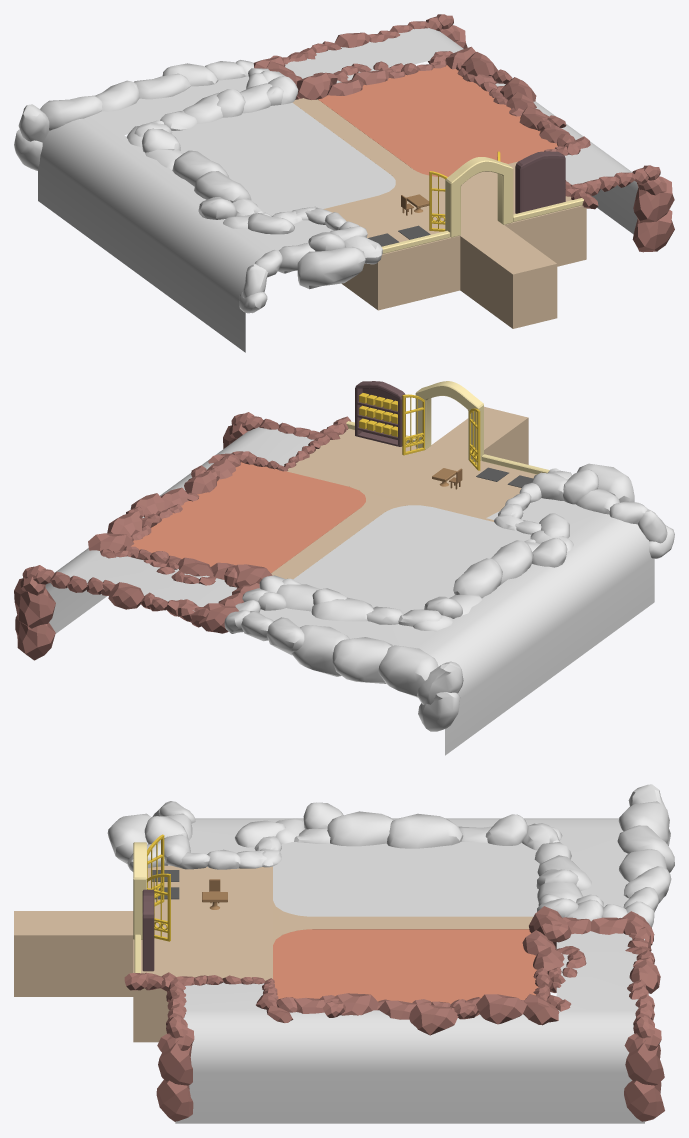
File: Afterworld New Map.fbx
3 renders of one model, top to bottom at view 1: azimuth 30°, elevation 25°; view 2: azimuth 150°, elevation 25°; view 3: azimuth 270°, elevation 25°, orthographic. The views are drawn at different scales.
Visible parts, largest first — view 1: Heaven_water, Neutral_ground, Clouds, Heaven_ground, Hell_ground, Rocks, Hell_Lava, Shelves, Gate, Neutral_Walls, Gate_door; view 2: Heaven_water, Clouds, Rocks, Neutral_ground, Hell_ground, Heaven_ground, Hell_Lava, Gate, Shelves, Gate_door.001, Gate_door, Neutral_Walls; view 3: Hell_Lava, Neutral_ground, Clouds, Rocks, Heaven_ground, Hell_ground, Heaven_water, Gate, Shelves, Gate_door.001, Gate_door.
Part boxes in pixels (box(x1,y1,x2,y2)): Heaven_water: box(38, 76, 333, 352); Neutral_ground: box(292, 98, 586, 328); Clouds: box(14, 60, 382, 313); Heaven_ground: box(172, 102, 395, 215); Hell_ground: box(318, 65, 557, 176); Rocks: box(253, 14, 674, 252); Hell_Lava: box(285, 28, 657, 251); Shelves: box(515, 151, 565, 213); Gate: box(445, 157, 513, 237); Neutral_Walls: box(382, 198, 583, 253); Gate_door: box(429, 171, 447, 231); Heaven_water: box(259, 498, 654, 755); Clouds: box(224, 463, 674, 731); Rocks: box(14, 412, 350, 660); Neutral_ground: box(271, 406, 536, 578); Hell_ground: box(131, 462, 365, 573); Heaven_ground: box(293, 505, 531, 613); Hell_Lava: box(45, 427, 313, 633); Gate: box(415, 381, 483, 462); Shelves: box(355, 381, 405, 446); Gate_door.001: box(402, 394, 425, 455); Gate_door: box(469, 408, 480, 470); Neutral_Walls: box(346, 421, 549, 474); Hell_Lava: box(175, 931, 644, 1123); Neutral_ground: box(14, 865, 533, 1042); Clouds: box(107, 784, 674, 927); Rocks: box(124, 906, 664, 1121); Heaven_ground: box(273, 842, 539, 916); Hell_ground: box(273, 929, 538, 1003); Heaven_water: box(189, 818, 628, 907); Gate: box(133, 842, 146, 939); Shelves: box(142, 889, 154, 971); Gate_door.001: box(147, 873, 170, 941); Gate_door: box(147, 834, 164, 906).
Size of the model in its own units: 8511 by 2802 by 9714.
